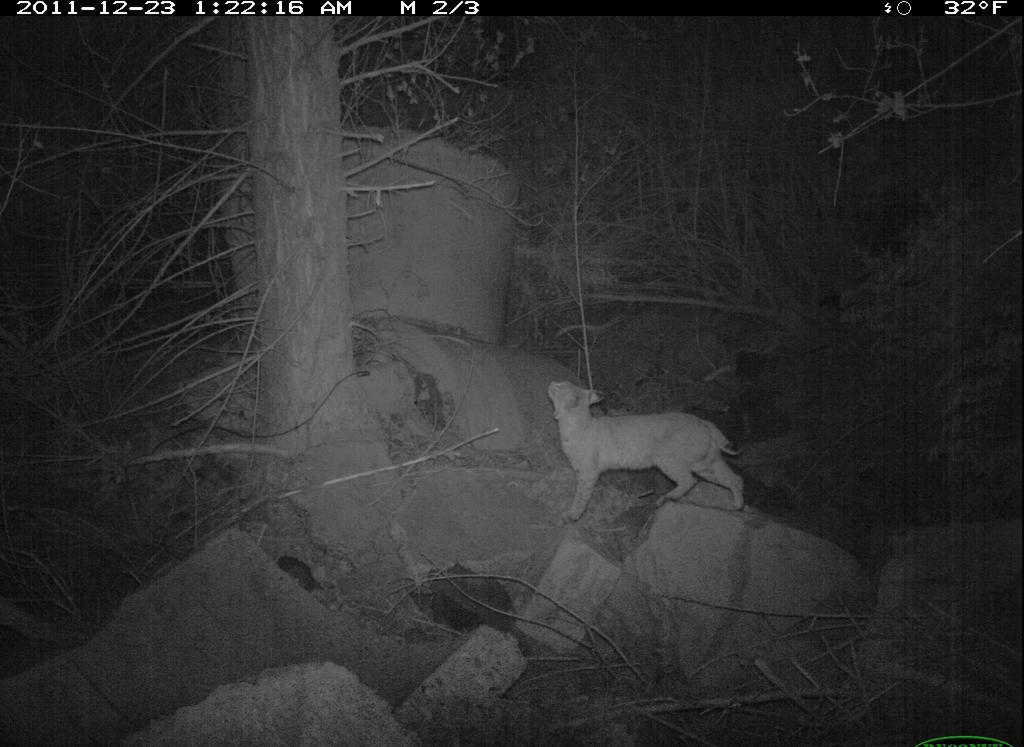bobcat: (541, 370, 753, 525)
